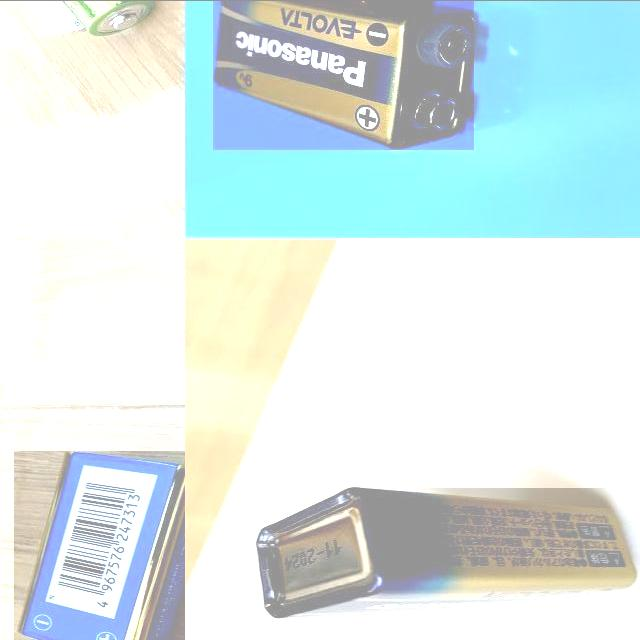9V: (253, 487, 640, 619), (213, 0, 474, 150), (14, 451, 185, 640)
